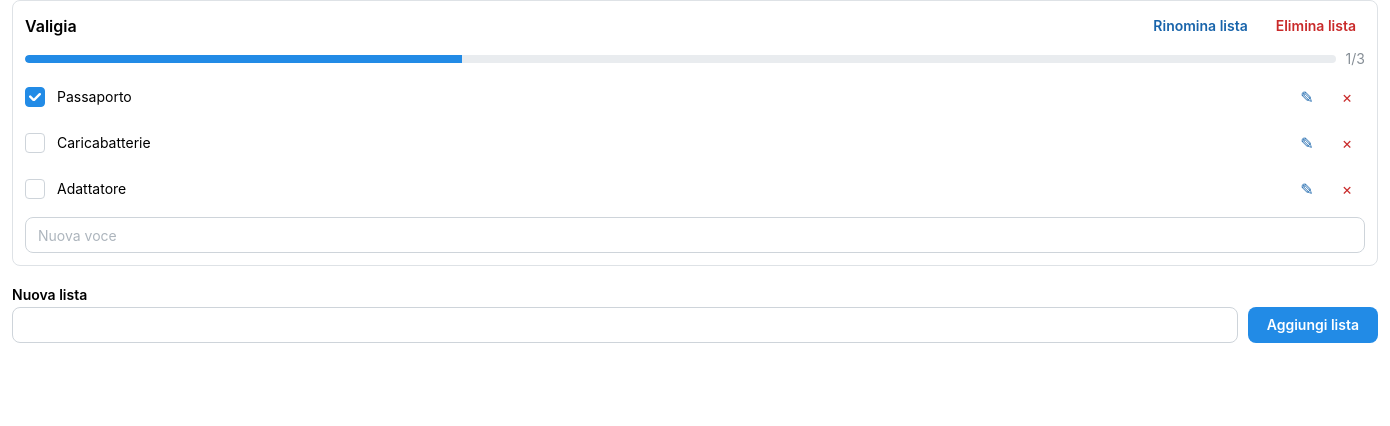
it: a successful retry clears the error from a failed toggle
The width and height of the screenshot is (1390, 426).
Click the checkbox labelled "Caricabatterie": coordinates (35, 143) [25,133,45,153]
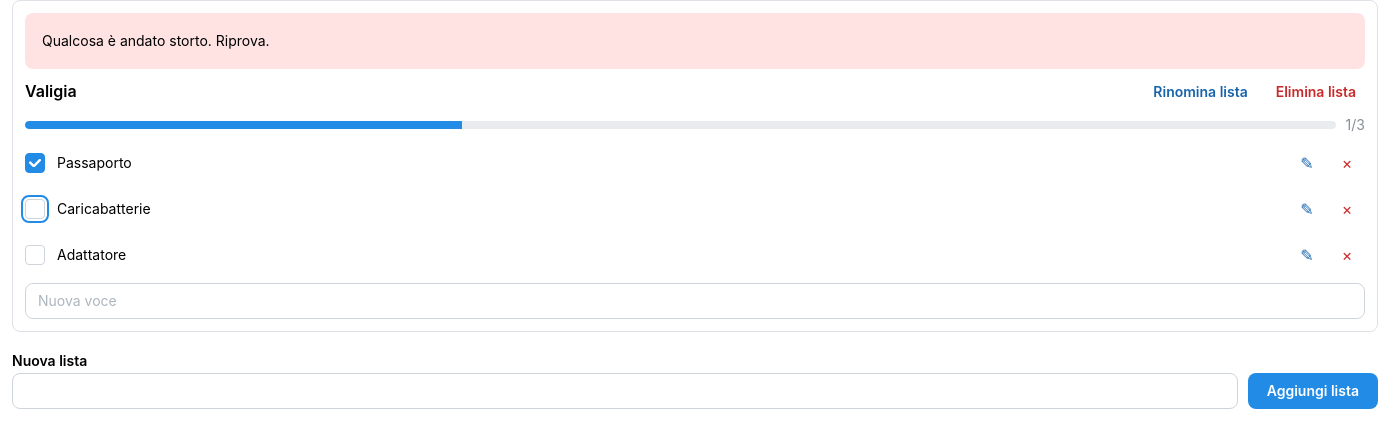
Result: the message "Qualcosa è andato storto. Riprova." is shown at [25,13,1365,69]
Click the checkbox labelled "Caricabatterie": coordinates (35, 209) [25,199,45,219]
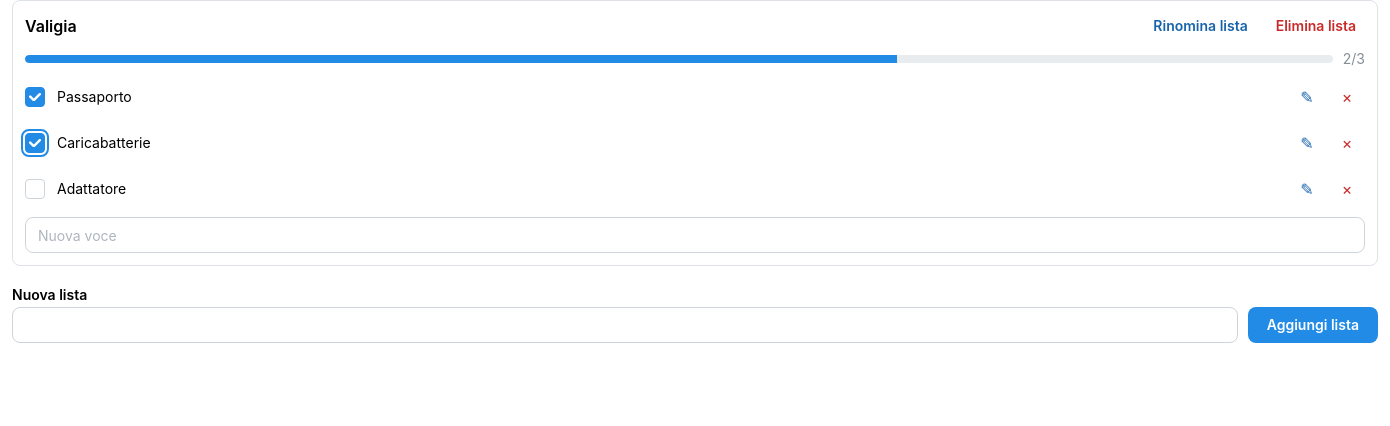
Result: the message "Qualcosa è andato storto. Riprova." is gone
